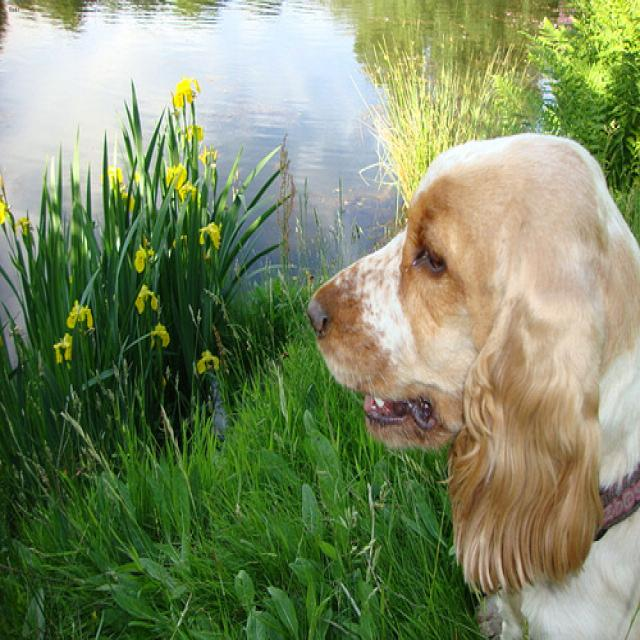dog-english_cocker_spaniel: (297, 118, 637, 637)
